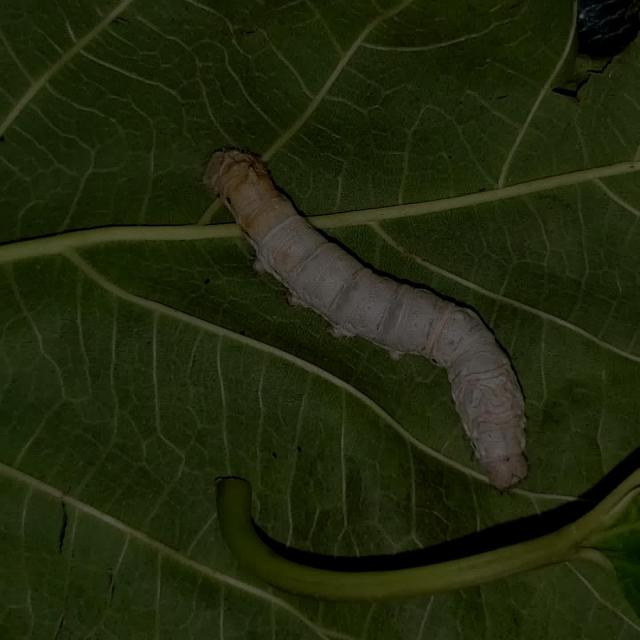Grasserie: (191, 123, 550, 496)
